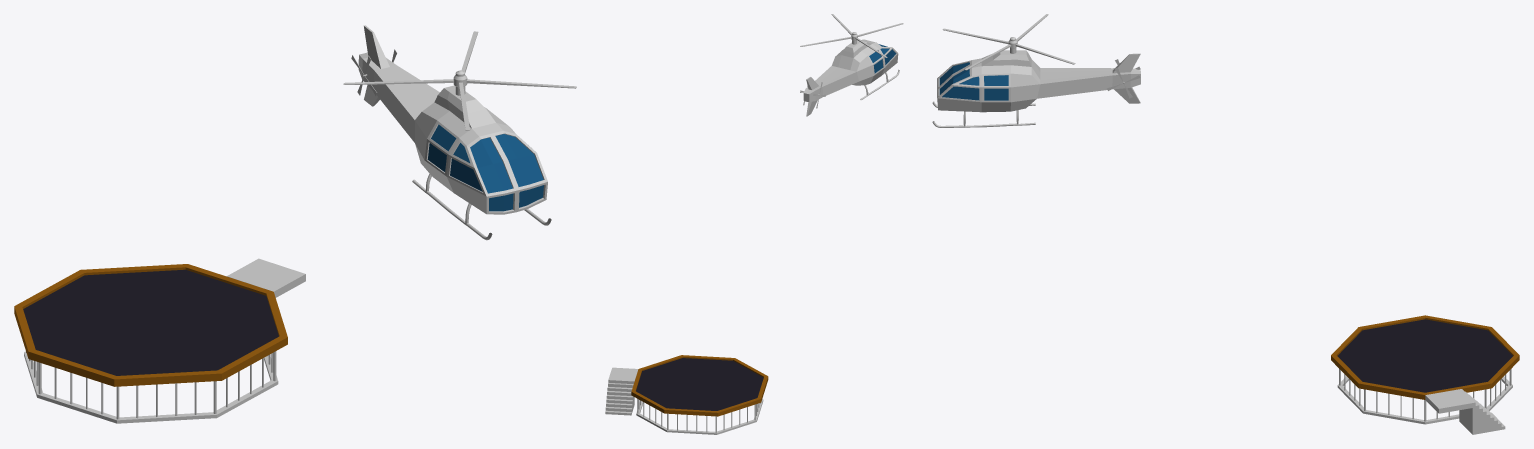
Rendered from copter_000045.obj.
The picture shows the model from 3 angles, left to right: view 1: azimuth 30°, elevation 25°; view 2: azimuth 150°, elevation 25°; view 3: azimuth 270°, elevation 25°; orthographic projection. The views are drawn at different scales.
Parts seen in each view (by area): view 1: Cylinder.001_Cylinder.012, Helicopter.007_Cylinder.008, Helicopter.001_Cylinder.001, Cylinder.004, Cylinder.003_Cylinder.005; view 2: Cylinder.001_Cylinder.012, Helicopter.007_Cylinder.008, Helicopter.001_Cylinder.001; view 3: Cylinder.001_Cylinder.012, Helicopter.007_Cylinder.008, Helicopter.001_Cylinder.001.
Boxes of the visible parts, <box> form: Cylinder.001_Cylinder.012: <box>14,258,305,423</box>; Helicopter.007_Cylinder.008: <box>358,25,551,240</box>; Helicopter.001_Cylinder.001: <box>343,31,576,130</box>; Cylinder.004: <box>136,358,263,418</box>; Cylinder.003_Cylinder.005: <box>29,353,273,414</box>; Cylinder.001_Cylinder.012: <box>605,355,768,434</box>; Helicopter.007_Cylinder.008: <box>803,39,899,116</box>; Helicopter.001_Cylinder.001: <box>800,14,903,57</box>; Cylinder.001_Cylinder.012: <box>1331,315,1519,434</box>; Helicopter.007_Cylinder.008: <box>932,50,1140,127</box>; Helicopter.001_Cylinder.001: <box>942,14,1075,70</box>.
Bounding box in the file's own units: 7.94 × 13.86 × 21.07.
